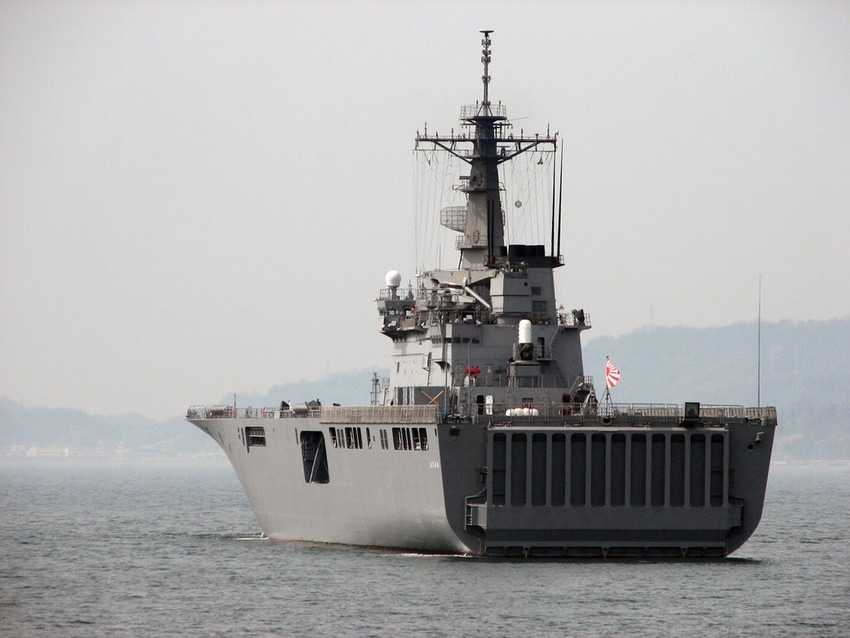warship: (178, 32, 781, 556)
